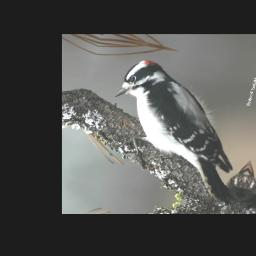Woodpecker: (93, 55, 256, 205)
